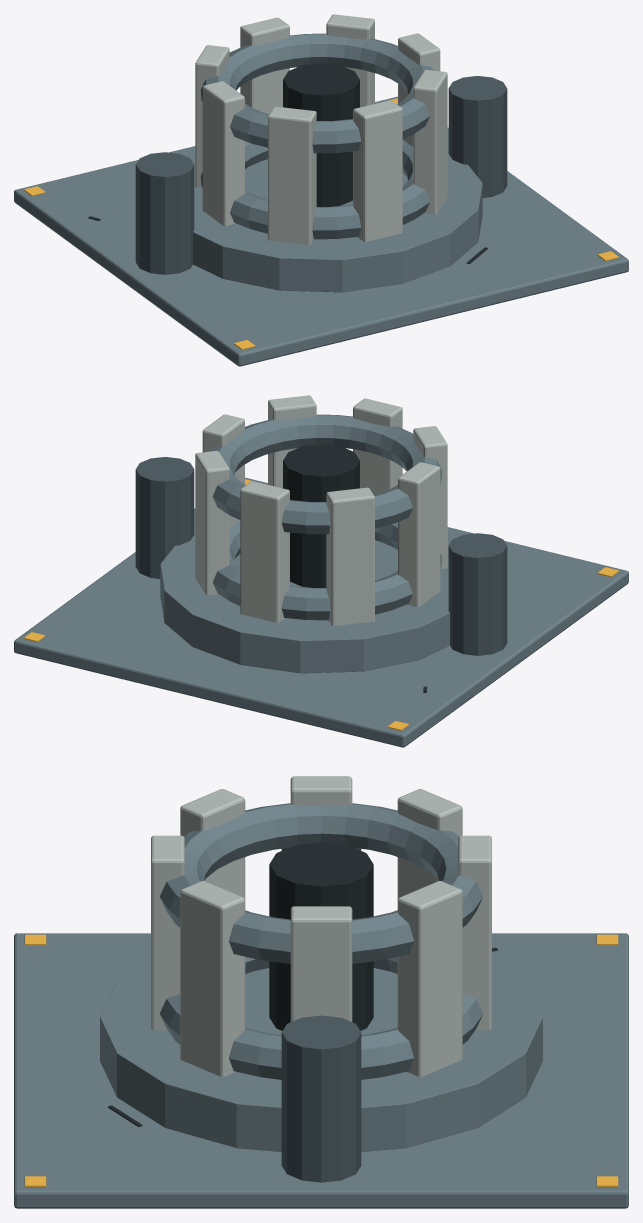
The model's file is utility_reactor_d1.glb.
The picture shows the model from 3 angles, top to bottom: view 1: azimuth 30°, elevation 25°; view 2: azimuth 150°, elevation 25°; view 3: azimuth 270°, elevation 25°; orthographic projection. The views are drawn at different scales.
Visible parts, largest first — view 1: Foundation.017, Reactor plinth.001, Field containment toroid.003, Coolant reservoir.002, Containment fin.013, Containment fin.014, Coolant reservoir.003, Central field column.001, Containment fin.012, Field containment toroid.002, Containment fin.015, Containment fin.010 (+3 smaller); view 2: Foundation.017, Reactor plinth.001, Field containment toroid.003, Coolant reservoir.002, Containment fin.011, Containment fin.010, Coolant reservoir.003, Central field column.001, Containment fin.012, Field containment toroid.002, Containment fin.009, Containment fin.014 (+3 smaller); view 3: Foundation.017, Reactor plinth.001, Field containment toroid.003, Coolant reservoir.003, Containment fin.009, Containment fin.015, Central field column.001, Containment fin.008, Field containment toroid.002, Containment fin.010, Containment fin.014, Containment fin.011 (+2 smaller).
Boxes of the visible parts, left/top/right/bottom form: Foundation.017: left=14, top=96, right=628, bottom=366; Reactor plinth.001: left=185, top=149, right=482, bottom=292; Field containment toroid.003: left=200, top=33, right=433, bottom=153; Coolant reservoir.002: left=135, top=152, right=194, bottom=274; Containment fin.013: left=268, top=106, right=316, bottom=244; Containment fin.014: left=353, top=100, right=402, bottom=241; Coolant reservoir.003: left=448, top=76, right=507, bottom=197; Central field column.001: left=283, top=63, right=359, bottom=206; Containment fin.012: left=202, top=81, right=244, bottom=225; Field containment toroid.002: left=200, top=139, right=430, bottom=239; Containment fin.015: left=413, top=69, right=447, bottom=214; Containment fin.010: left=240, top=17, right=289, bottom=113; Foundation.017: left=14, top=477, right=628, bottom=747; Reactor plinth.001: left=160, top=530, right=457, bottom=673; Field containment toroid.003: left=209, top=414, right=442, bottom=534; Coolant reservoir.002: left=448, top=533, right=507, bottom=655; Containment fin.011: left=326, top=487, right=374, bottom=625; Containment fin.010: left=240, top=481, right=289, bottom=622; Coolant reservoir.003: left=135, top=457, right=194, bottom=578; Central field column.001: left=283, top=444, right=359, bottom=587; Containment fin.012: left=398, top=462, right=440, bottom=606; Field containment toroid.002: left=212, top=520, right=442, bottom=620; Containment fin.009: left=195, top=450, right=229, bottom=595; Containment fin.014: left=353, top=398, right=402, bottom=494; Foundation.017: left=14, top=933, right=628, bottom=1208; Reactor plinth.001: left=100, top=960, right=542, bottom=1151; Field containment toroid.003: left=159, top=803, right=483, bottom=963; Coolant reservoir.003: left=281, top=1015, right=361, bottom=1182; Containment fin.009: left=397, top=881, right=462, bottom=1076; Containment fin.015: left=180, top=881, right=245, bottom=1076; Central field column.001: left=269, top=842, right=373, bottom=1030; Containment fin.008: left=290, top=906, right=352, bottom=1021; Field containment toroid.002: left=159, top=956, right=483, bottom=1079; Containment fin.010: left=458, top=835, right=491, bottom=1030; Containment fin.014: left=151, top=835, right=184, bottom=1030; Containment fin.011: left=397, top=789, right=462, bottom=899.
Bounding box in the file's own units: 10 × 4.17 × 10.
